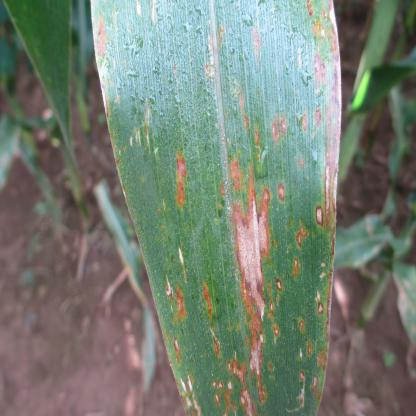Corn leaf blight: (85, 0, 351, 415)
